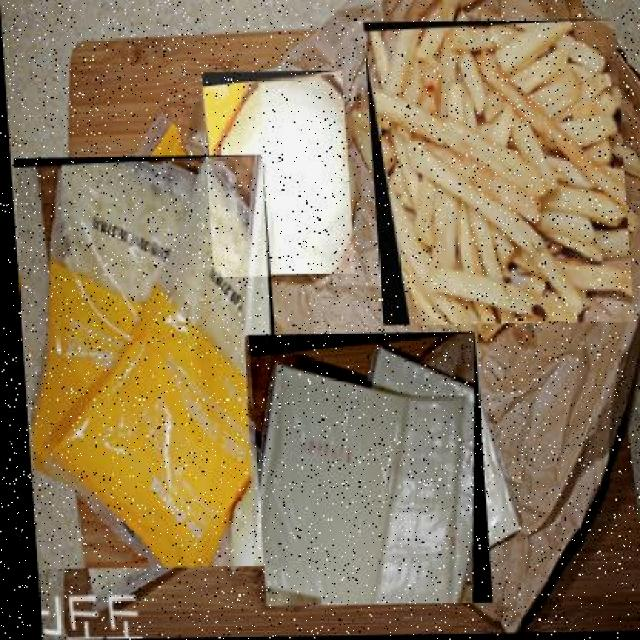Cheese: (10, 155, 282, 571), (242, 333, 484, 609)
Onion: (199, 71, 352, 278)
